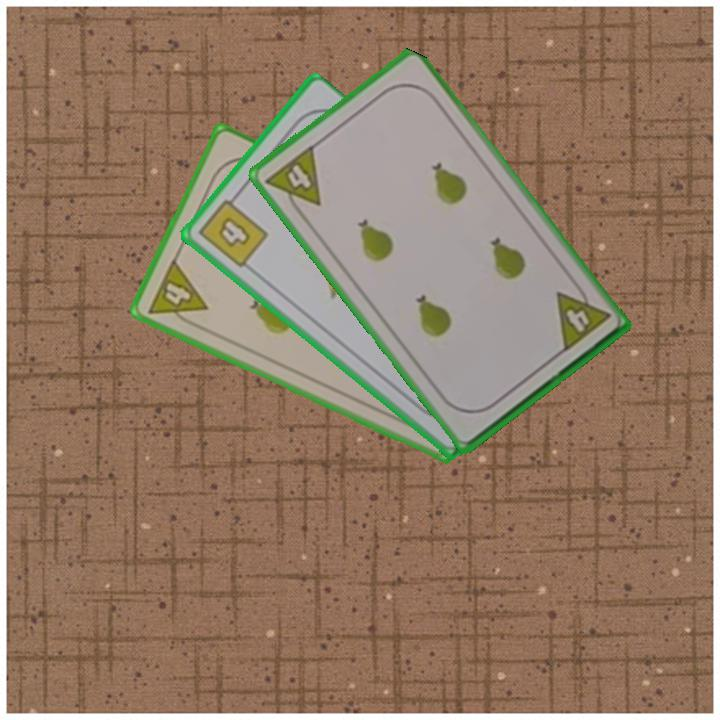4b: (194, 189, 271, 271)
4p: (143, 255, 211, 332), (261, 141, 324, 221), (552, 277, 613, 355)
